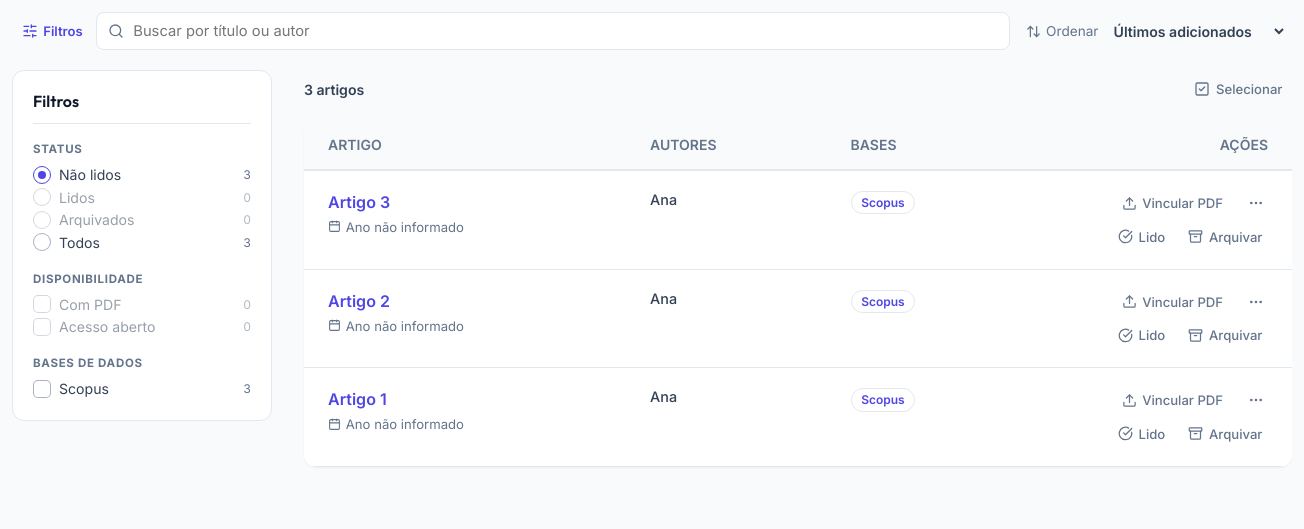
Test: ProjectArticlesTab multi-select › selects every article on the page and unselects them again
Click the button "Selecionar" at (1238,89), box x1=1185 y1=73 x2=1292 y2=105
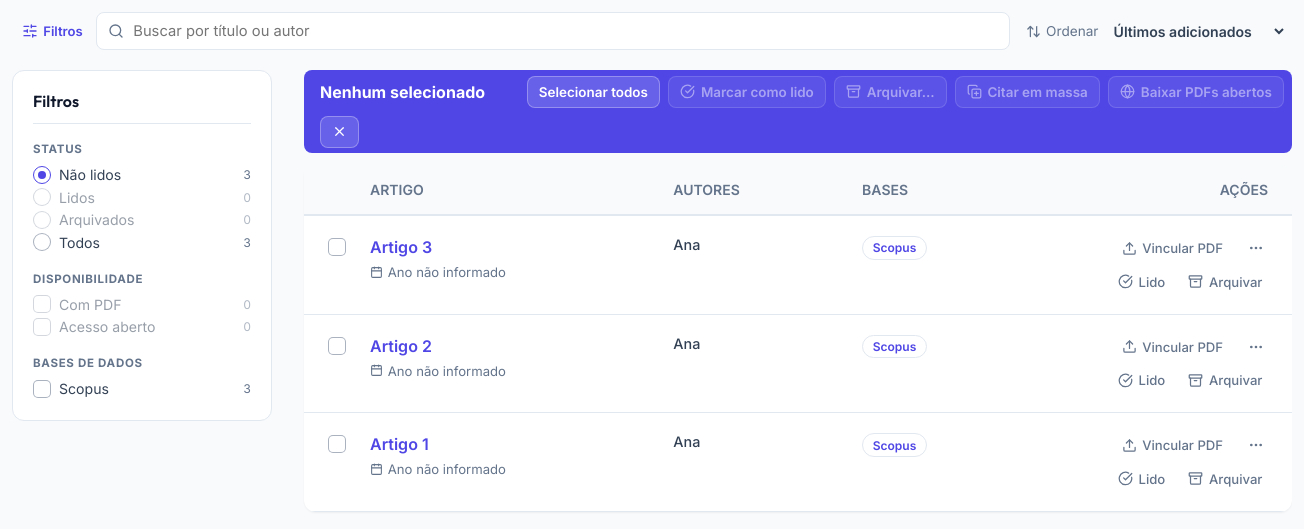
Click the button "Selecionar todos" at (593,92), box x1=527 y1=76 x2=660 y2=108
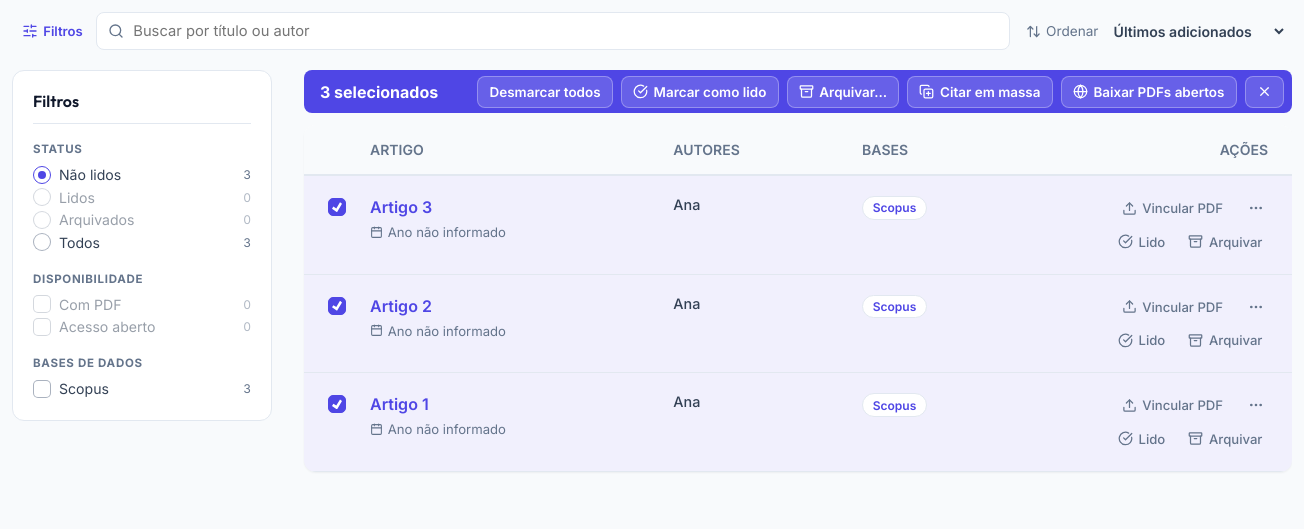
Result: the text "3 selecionados" is shown at x1=320 y1=82 x2=438 y2=102
Click the button "Desmarcar todos" at (545,92), box x1=477 y1=76 x2=613 y2=108
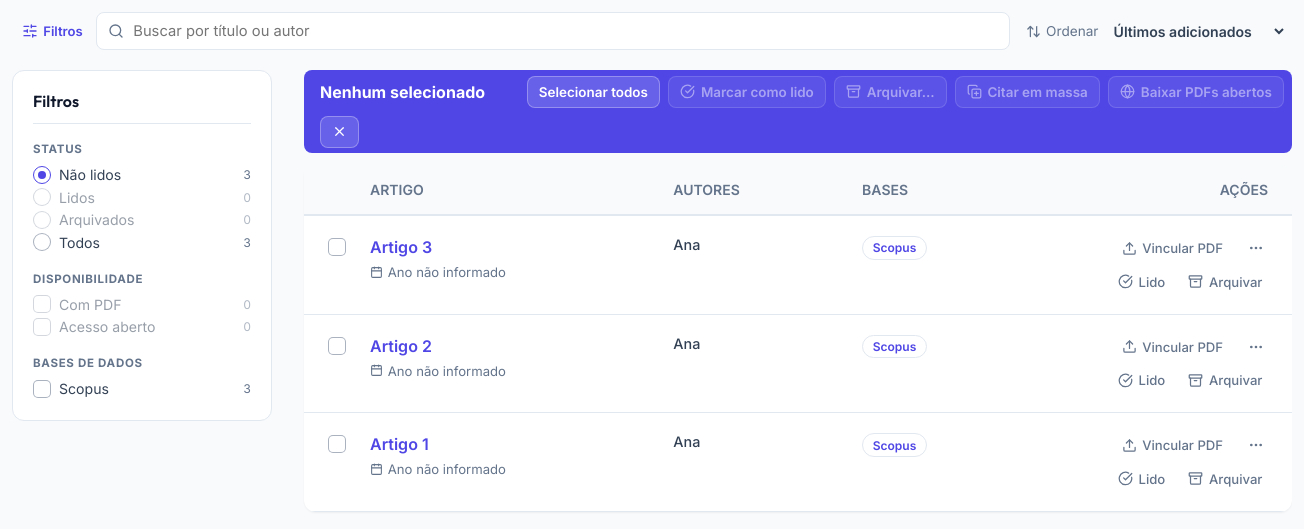
Result: the text "Nenhum selecionado" is shown at x1=320 y1=82 x2=485 y2=102
